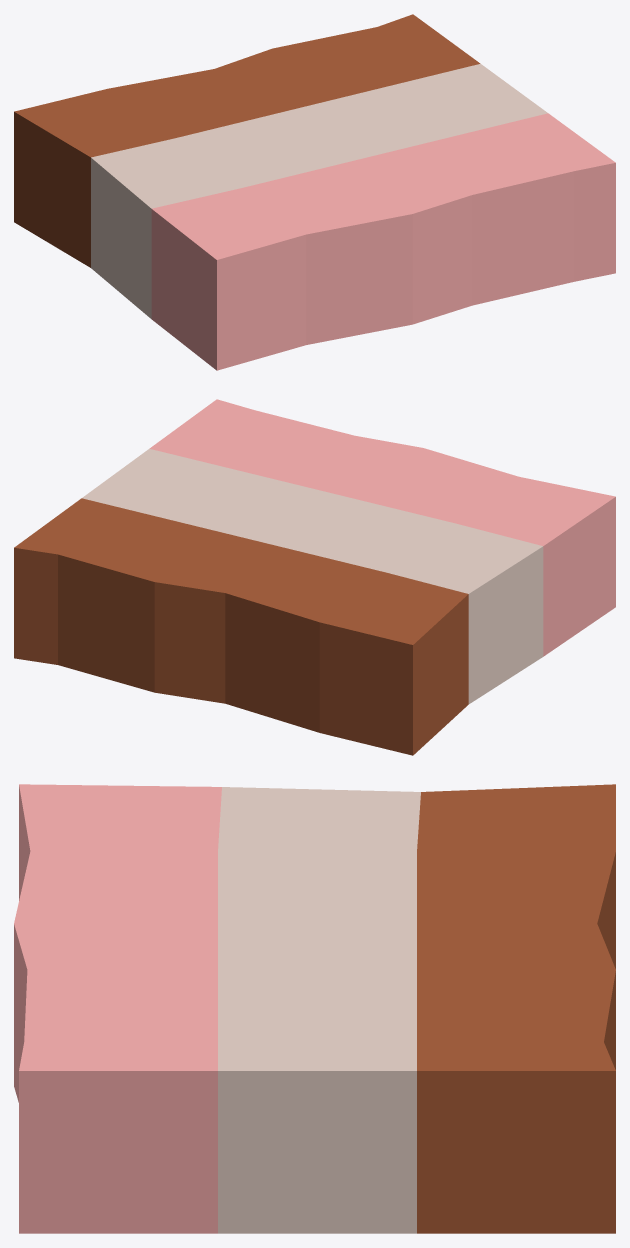
File: IceCream.fbx
The picture shows the model from 3 angles, top to bottom: view 1: azimuth 30°, elevation 25°; view 2: azimuth 150°, elevation 25°; view 3: azimuth 270°, elevation 25°; orthographic projection. The views are drawn at different scales.
Parts seen in each view (by area): view 1: Cube; view 2: Cube; view 3: Cube.
Part boxes in pixels (x1,y1,x2,y2): Cube: (14, 14, 615, 370); Cube: (14, 399, 615, 755); Cube: (14, 784, 615, 1233).
Size of the model in its own units: 81.85 by 21.68 by 72.67.
